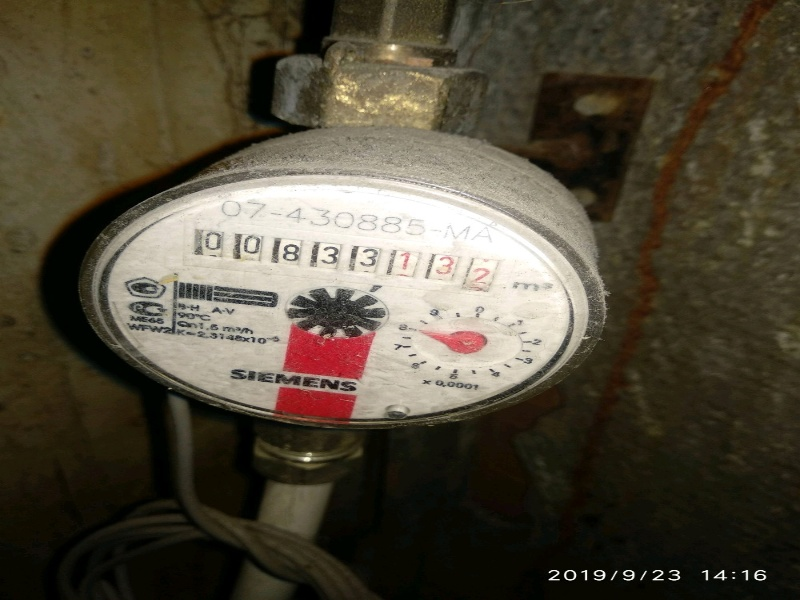meter: (184, 228, 494, 289)
